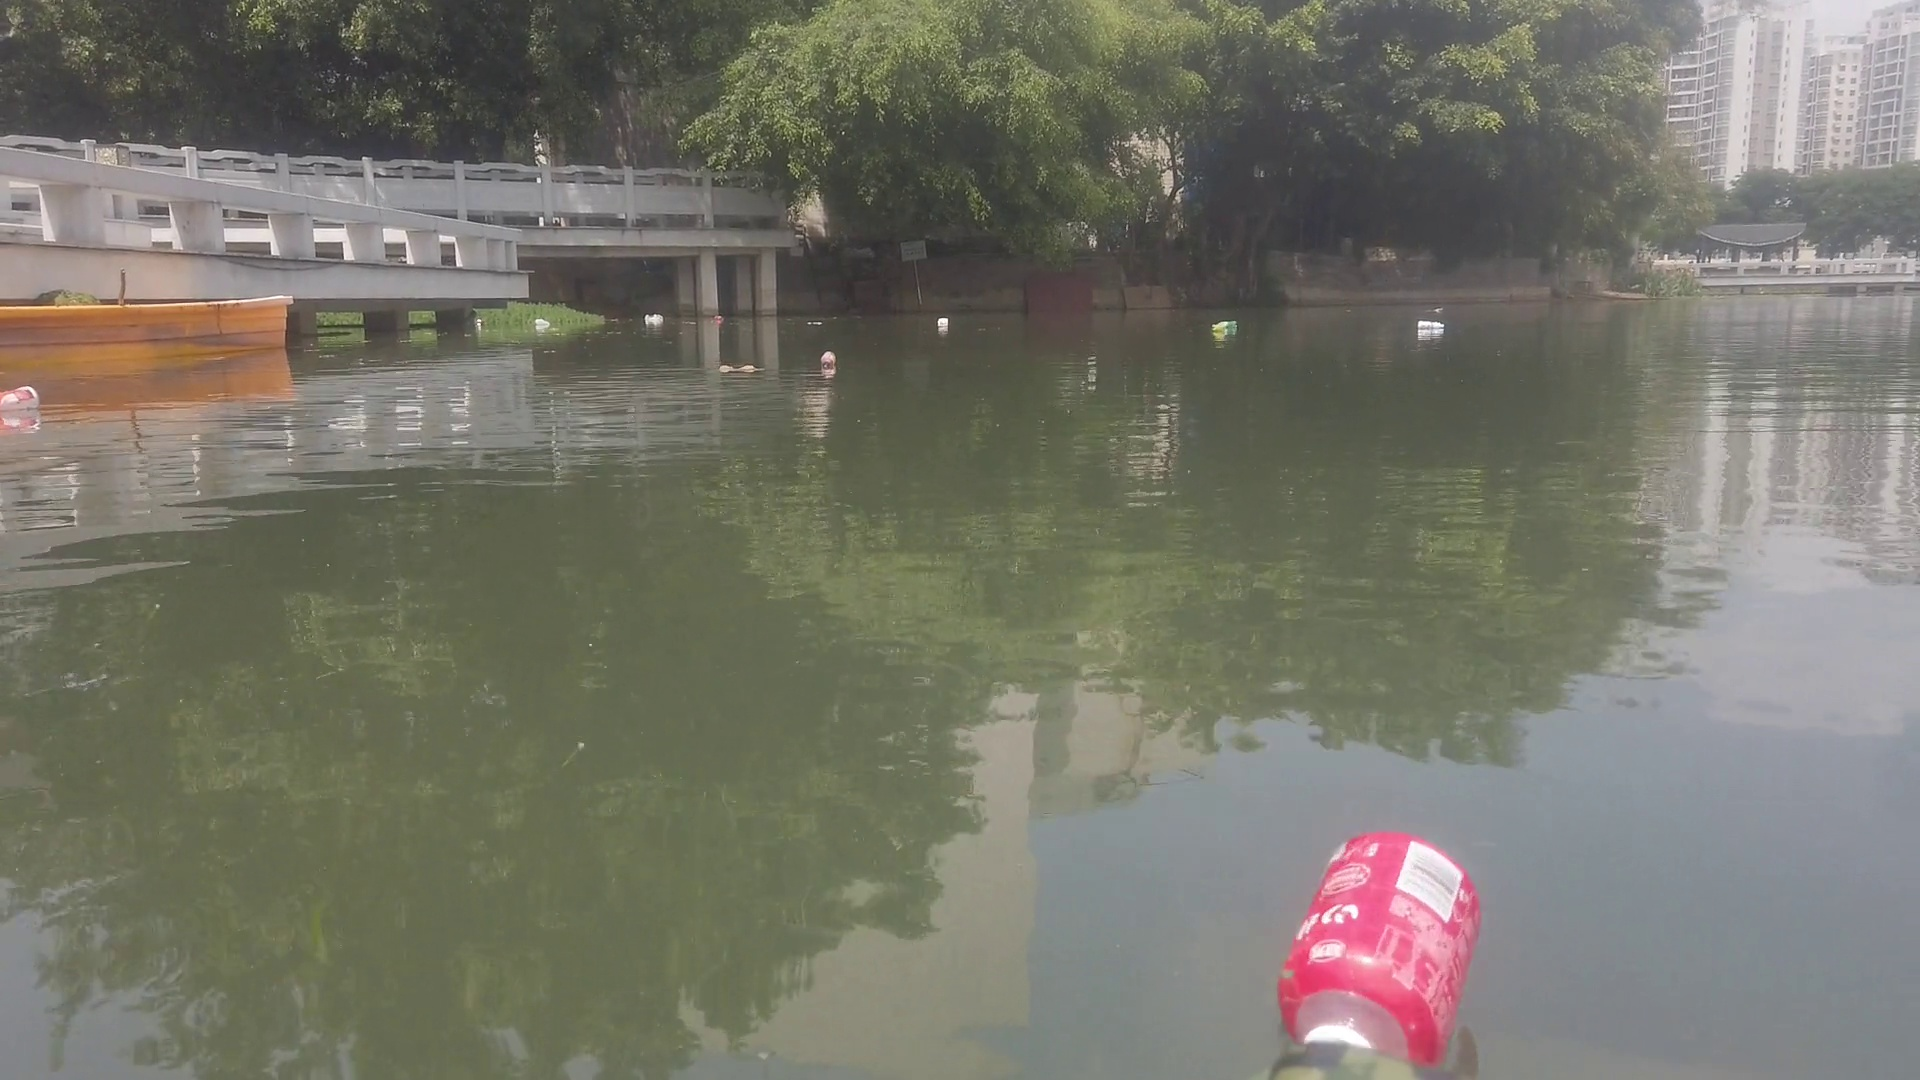bottle: (1273, 820, 1478, 1060), (1, 382, 44, 411), (1414, 316, 1447, 334), (818, 349, 837, 375), (1211, 319, 1237, 328), (473, 316, 488, 326), (712, 314, 723, 324)
carton: (936, 315, 947, 326)
paper: (713, 357, 770, 378), (808, 316, 824, 332)
plastic: (644, 310, 665, 324), (533, 316, 553, 328)
